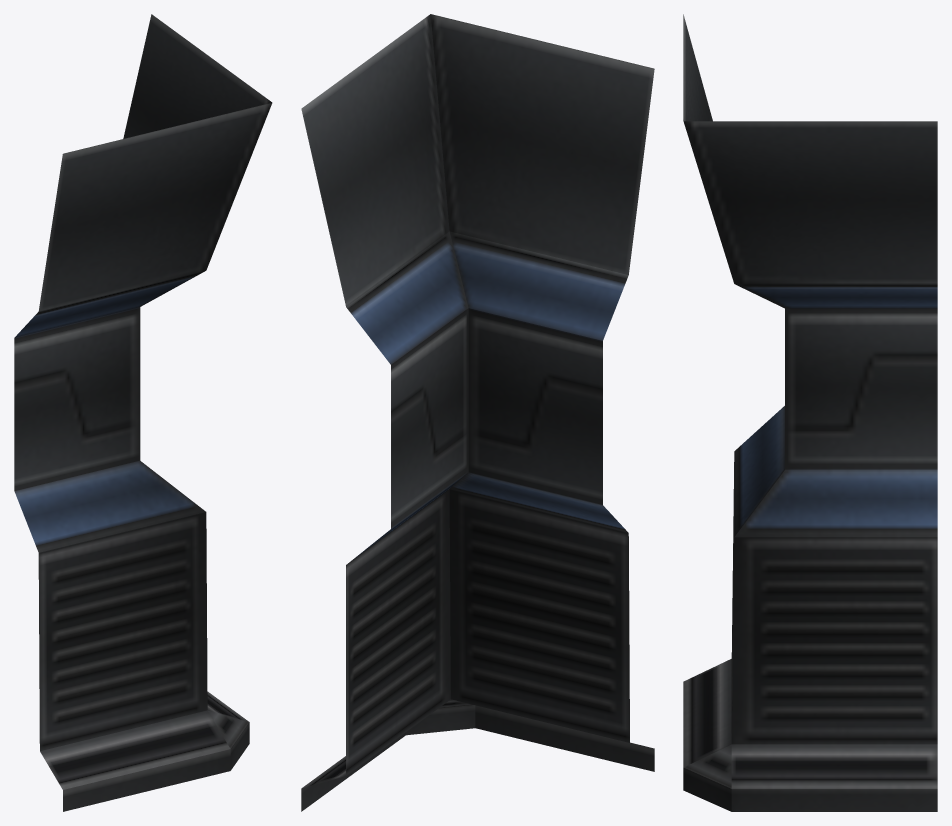
File: corridor_wallCornerOutside.obj
3 renders of one model, left to right at view 1: azimuth 30°, elevation 25°; view 2: azimuth 150°, elevation 25°; view 3: azimuth 270°, elevation 25°, orthographic. The views are drawn at different scales.
Parts seen in each view (by area): view 1: Plane_Plane.002; view 2: Plane_Plane.002; view 3: Plane_Plane.002.
Boxes of the visible parts, x1,y1,x2,y2 form: Plane_Plane.002: [14, 14, 272, 811]; Plane_Plane.002: [301, 14, 654, 811]; Plane_Plane.002: [683, 14, 937, 811].
Size of the model in its own units: 1 by 3 by 1.
